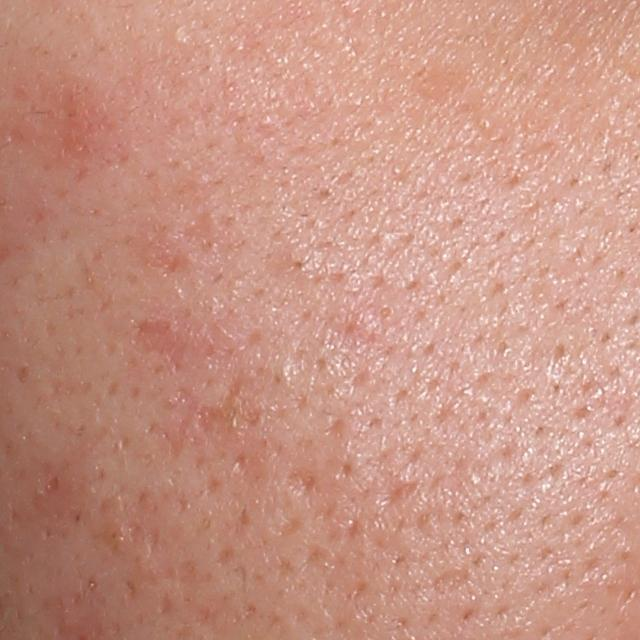atrophic_scar: (192, 376, 264, 449), (129, 318, 186, 380), (428, 565, 473, 595), (374, 481, 422, 505), (284, 467, 318, 500)
comedo: (163, 22, 190, 45), (373, 299, 396, 323)
